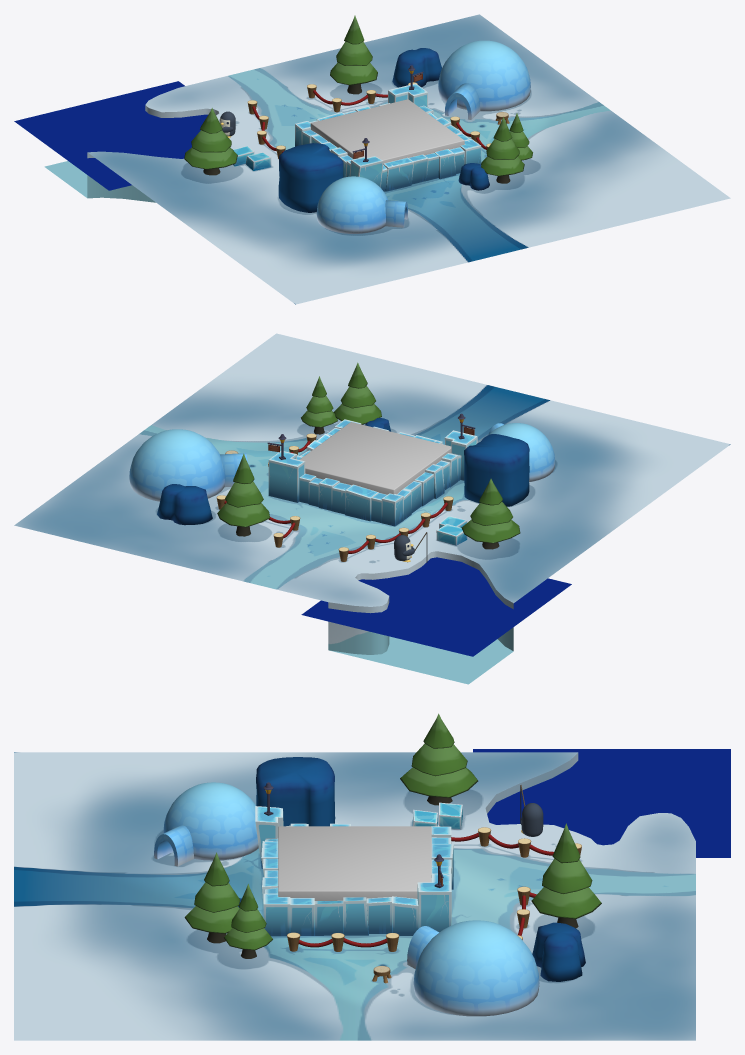
File: SNOW THEME CLEAN.fbx
3 renders of one model, top to bottom at view 1: azimuth 30°, elevation 25°; view 2: azimuth 150°, elevation 25°; view 3: azimuth 270°, elevation 25°, orthographic. The views are drawn at different scales.
Parts seen in each view (by area): view 1: Ground, Pond, Board, Board Border, Igloo Low ResA1.001, Rock2, Igloo Low ResA1.002, Tree.002, Tree.003, Tree.001, Rock1, Igloo Low ResA2.001 (+4 smaller); view 2: Ground, Pond, Board Border, Board, Igloo Low ResA1.001, Rock2, Tree.003, Tree.002, Rock1, Igloo Low ResA1.002, Tree.001, Tree (+1 smaller); view 3: Ground, Pond, Board, Board Border, Igloo Low ResA1.001, Igloo Low ResA1.002, Rock2, Tree.003, Tree.002, Tree.001, Rock1, Tree (+4 smaller).
Boxes of the visible parts, x1=… form: Ground: x1=44, y1=14, x2=730, y2=304; Pond: x1=14, y1=81, x2=207, y2=190; Board: x1=310, y1=99, x2=464, y2=163; Board Border: x1=295, y1=83, x2=481, y2=191; Igloo Low ResA1.001: x1=438, y1=40, x2=530, y2=111; Rock2: x1=278, y1=143, x2=343, y2=212; Igloo Low ResA1.002: x1=316, y1=176, x2=387, y2=233; Tree.002: x1=330, y1=15, x2=377, y2=94; Tree.003: x1=184, y1=108, x2=237, y2=175; Tree.001: x1=481, y1=117, x2=524, y2=183; Rock1: x1=392, y1=48, x2=441, y2=87; Igloo Low ResA2.001: x1=444, y1=83, x2=480, y2=119; Ground: x1=14, y1=333, x2=730, y2=684; Pond: x1=301, y1=557, x2=571, y2=656; Board Border: x1=268, y1=419, x2=477, y2=526; Board: x1=299, y1=422, x2=451, y2=494; Igloo Low ResA1.001: x1=129, y1=429, x2=224, y2=501; Rock2: x1=464, y1=434, x2=529, y2=506; Tree.003: x1=461, y1=478, x2=520, y2=549; Tree.002: x1=217, y1=453, x2=269, y2=536; Rock1: x1=157, y1=484, x2=212, y2=525; Igloo Low ResA1.002: x1=489, y1=423, x2=554, y2=481; Tree.001: x1=333, y1=362, x2=381, y2=424; Tree: x1=301, y1=376, x2=337, y2=434; Ground: x1=14, y1=752, x2=695, y2=1040; Pond: x1=473, y1=749, x2=730, y2=857; Board: x1=278, y1=826, x2=431, y2=900; Board Border: x1=255, y1=806, x2=453, y2=936; Igloo Low ResA1.001: x1=413, y1=920, x2=539, y2=1016; Igloo Low ResA1.002: x1=163, y1=782, x2=258, y2=860; Rock2: x1=256, y1=757, x2=335, y2=826; Tree.003: x1=400, y1=713, x2=478, y2=805; Tree.002: x1=531, y1=823, x2=601, y2=928; Tree.001: x1=184, y1=852, x2=240, y2=943; Rock1: x1=532, y1=922, x2=585, y2=981; Tree: x1=224, y1=884, x2=272, y2=958.
Bounding box in the file's own units: 8516 × 2202 × 8612.
